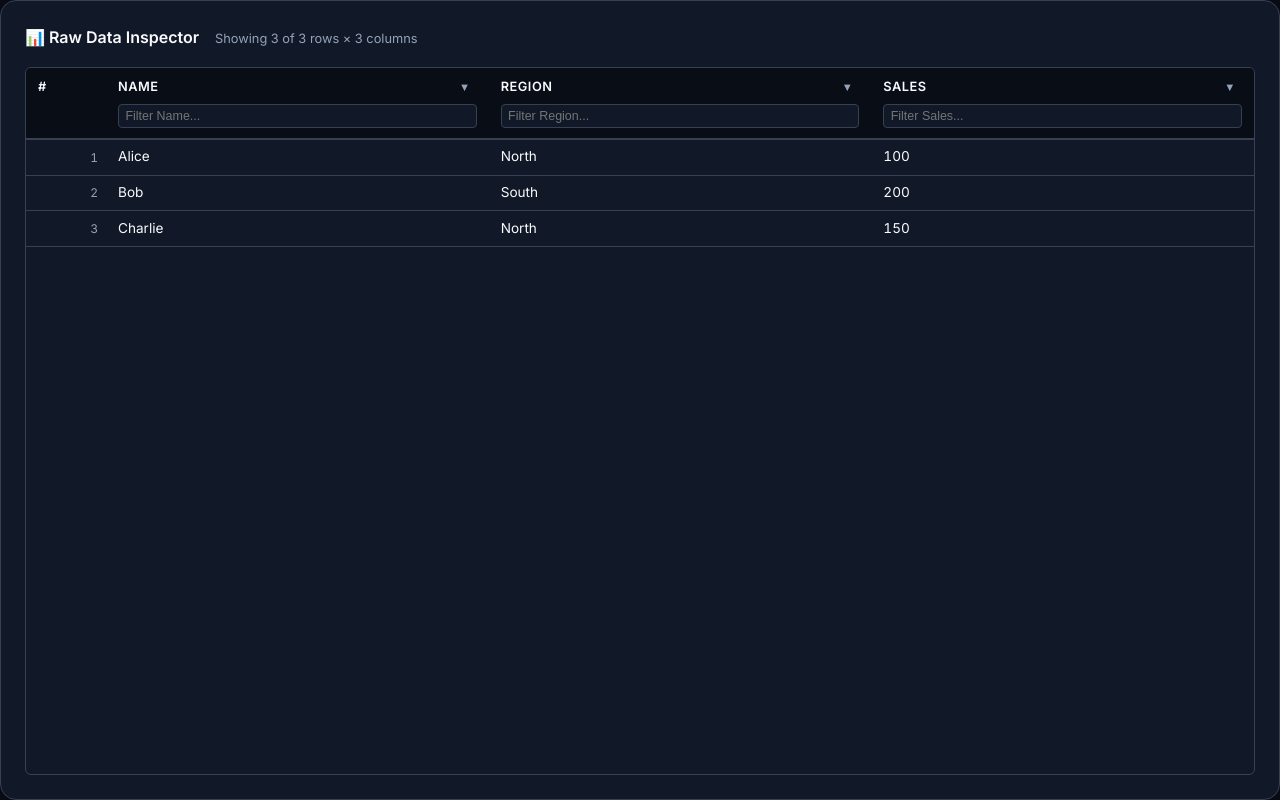
Test: DataEditor Column Filtering and Cell Editing › cleans up columnValueFilters state when all values are toggled back on
Click the button with test id "filter-btn-Region" at [847, 87], box left=835, top=79, right=859, bottom=96
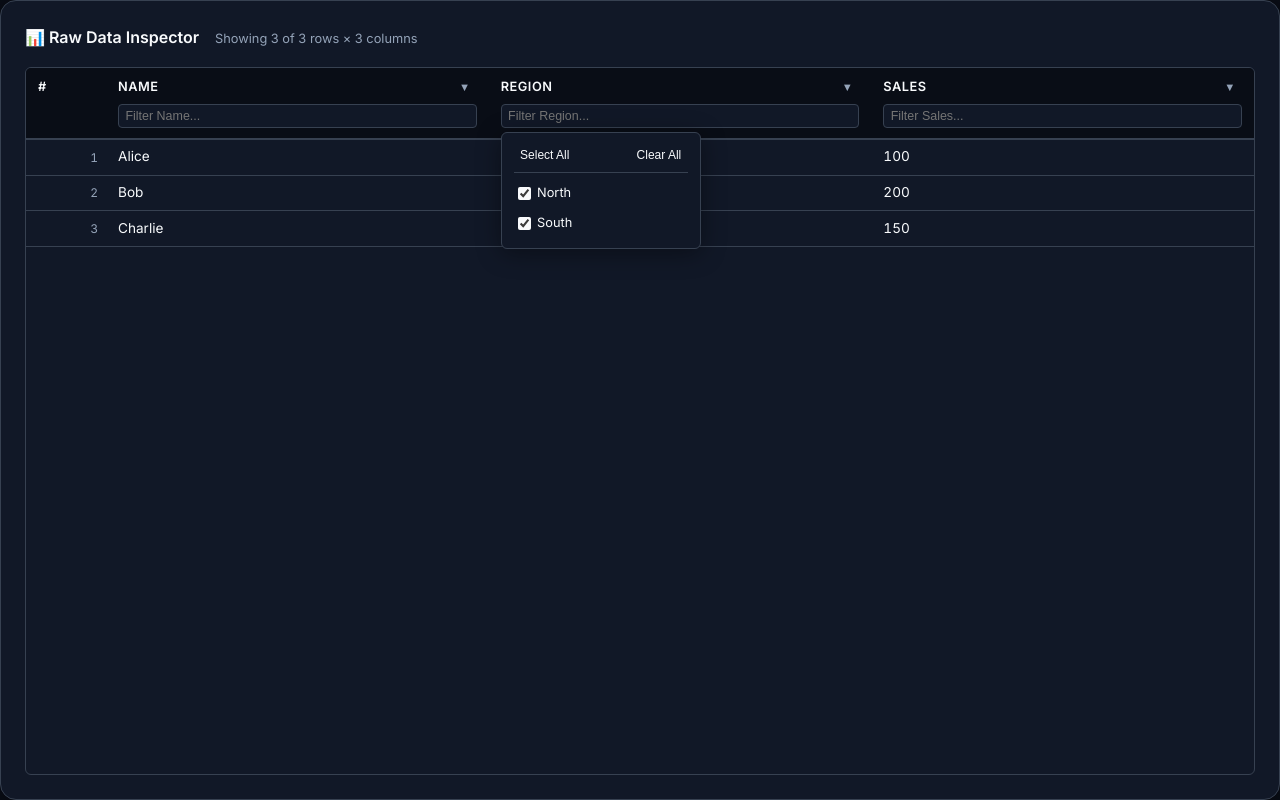
Click the checkbox labelled "South" at [524, 224], box left=518, top=217, right=531, bottom=230
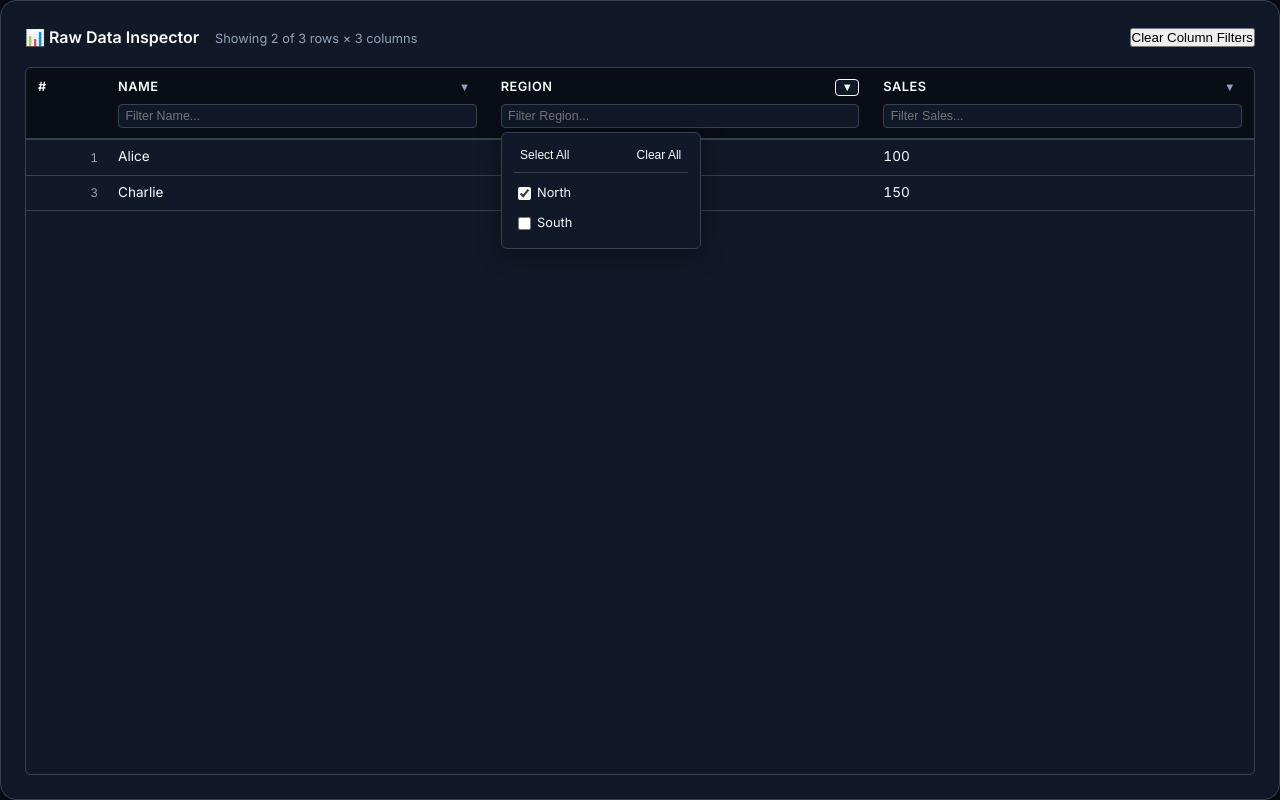
expect the button "Clear Column Filters" is shown: met, box left=1130, top=28, right=1255, bottom=47
Click the checkbox labelled "South" at [524, 224], box left=518, top=217, right=531, bottom=230
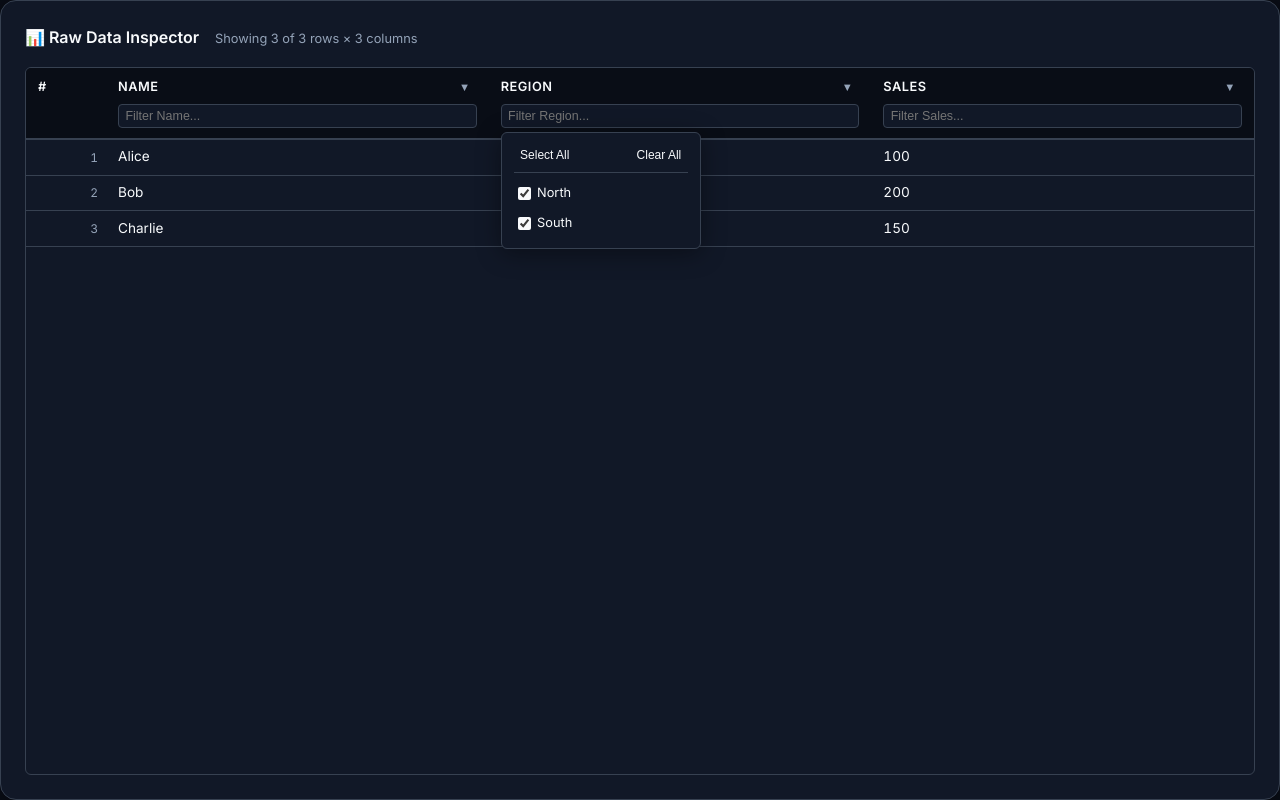
expect the button "Clear Column Filters" is gone: met
